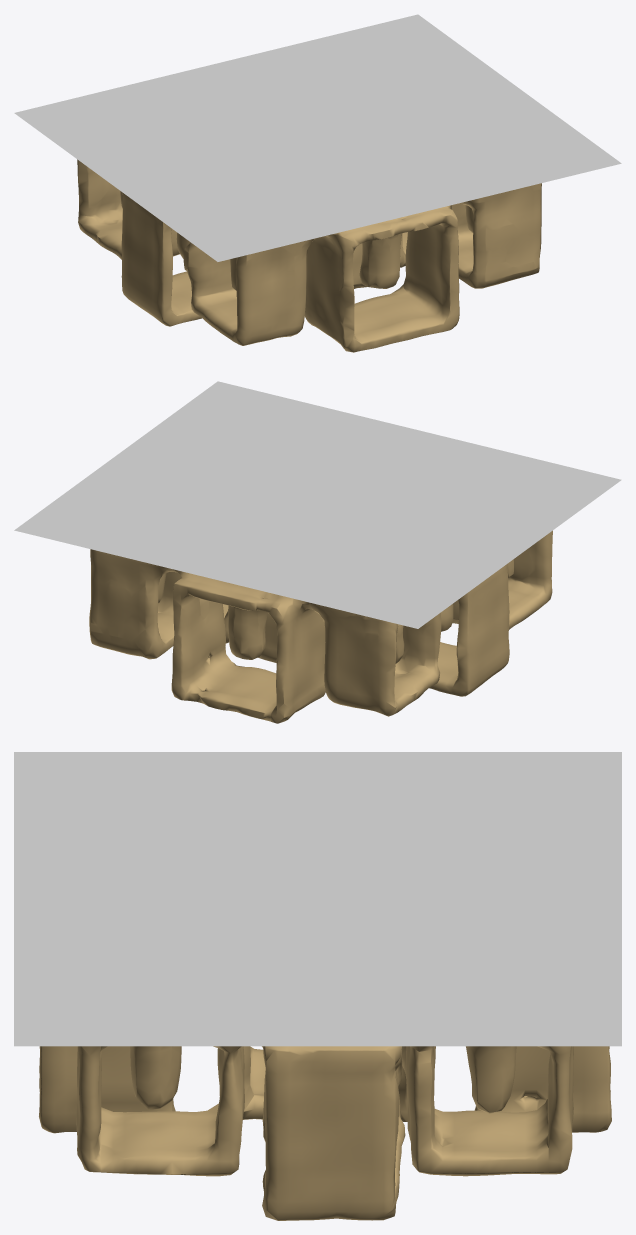
File: lamp.glb
The picture shows the model from 3 angles, top to bottom: view 1: azimuth 30°, elevation 25°; view 2: azimuth 150°, elevation 25°; view 3: azimuth 270°, elevation 25°; orthographic projection. The views are drawn at different scales.
Parts seen in each view (by area): view 1: world, lamp_7_5; view 2: world, lamp_7_5; view 3: world, lamp_7_5.
Part boxes in pixels (left/top/right/bottom): world: left=14, top=14, right=621, bottom=261; lamp_7_5: left=77, top=159, right=541, bottom=352; world: left=14, top=381, right=621, bottom=628; lamp_7_5: left=89, top=530, right=552, bottom=723; world: left=14, top=752, right=621, bottom=1046; lamp_7_5: left=39, top=1046, right=611, bottom=1220.
Bounding box in the file's own units: 0.9239 × 0.2989 × 0.8072.
